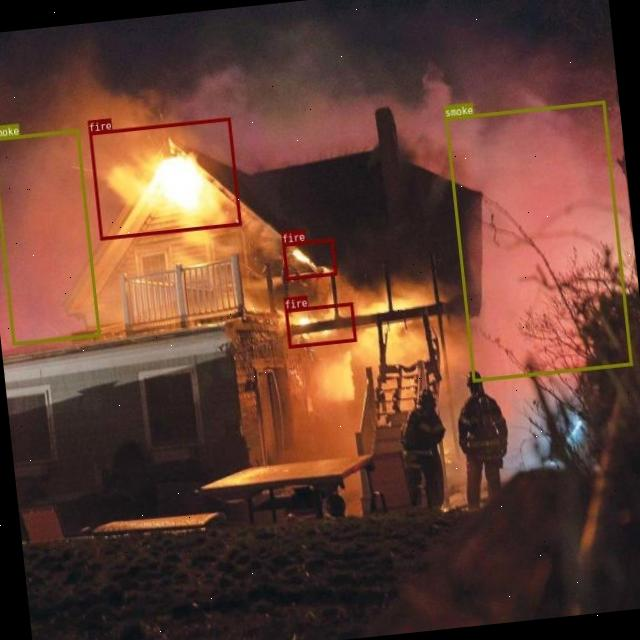fire: (88, 118, 241, 240), (284, 302, 356, 348), (282, 238, 336, 280)
smoke: (444, 100, 632, 382), (0, 128, 99, 344)
